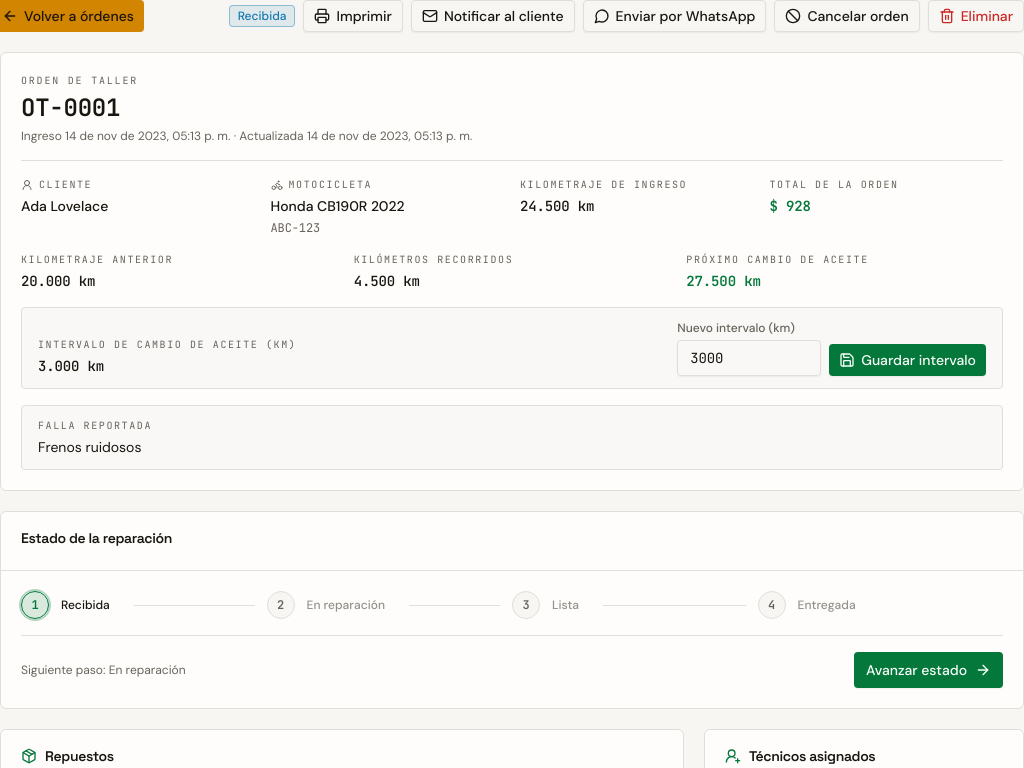
Test: OrderDetailPage odometer fields (cover) › keeps the printable document metadata for the odometer fields
Expected: the heading "OT-0001" is shown, [21,92,120,123]
Click the button with test id "order_detail.print_button": (353, 16) [304,0,403,32]
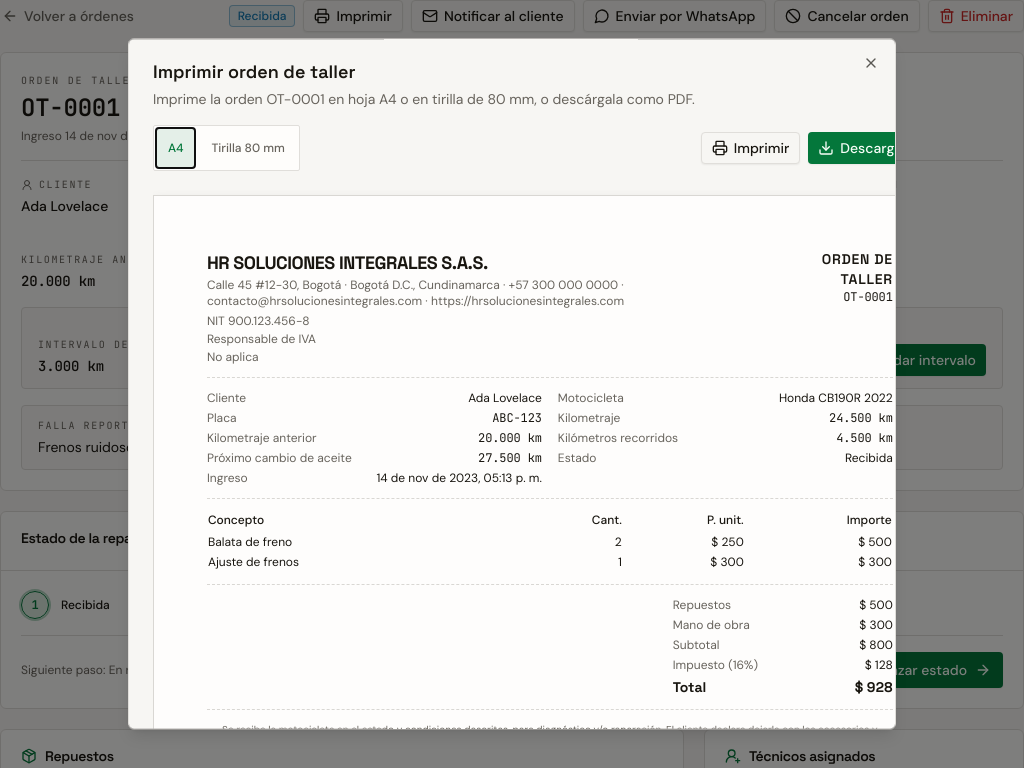
Expected: the text "Kilometraje anterior" is shown, [207,430,317,446]
Expected: the text "Kilómetros recorridos" is shown, [558,430,678,446]
Expected: the text "Próximo cambio de aceite" is shown, [207,450,352,466]
